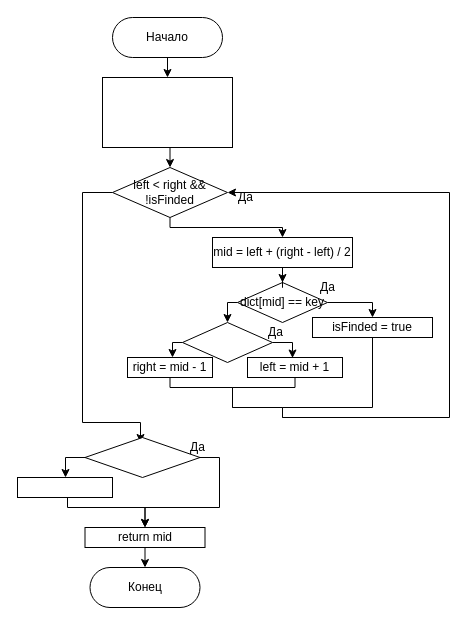
The diagram is 475 pixels wide and 625 high, and some of its shapes have lost their labels. The box of each missing label's shape, as (x1, y1, x2, y2) in pixels:
dict[mid] < key: (182, 322, 272, 362)
Dictionary dict, string key, int mid, int left, int right bool isFinded = false: (102, 76, 232, 148)
isFinded: (84, 436, 200, 478)
mid = -1: (16, 476, 112, 498)
